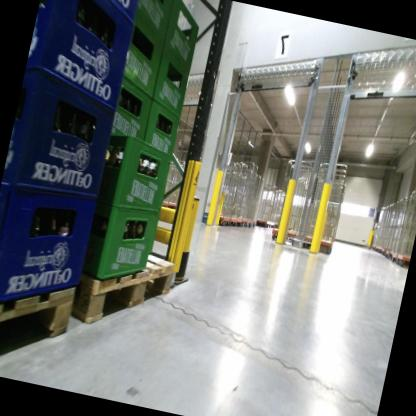pallet: (64, 233, 177, 353), (0, 264, 81, 387)
